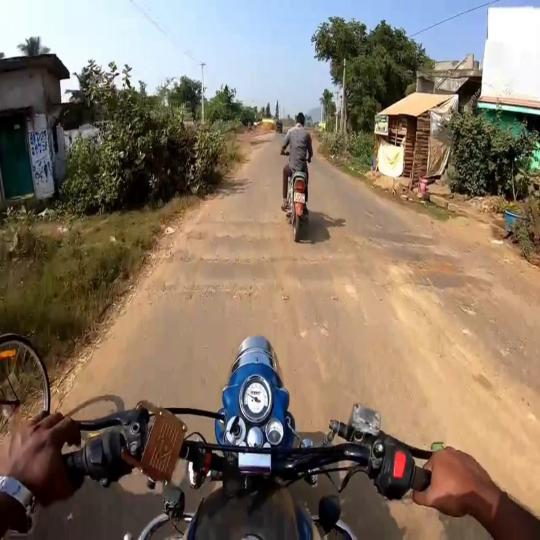Speed Bump: (155, 259, 493, 295), (178, 239, 458, 270), (184, 220, 440, 246)
